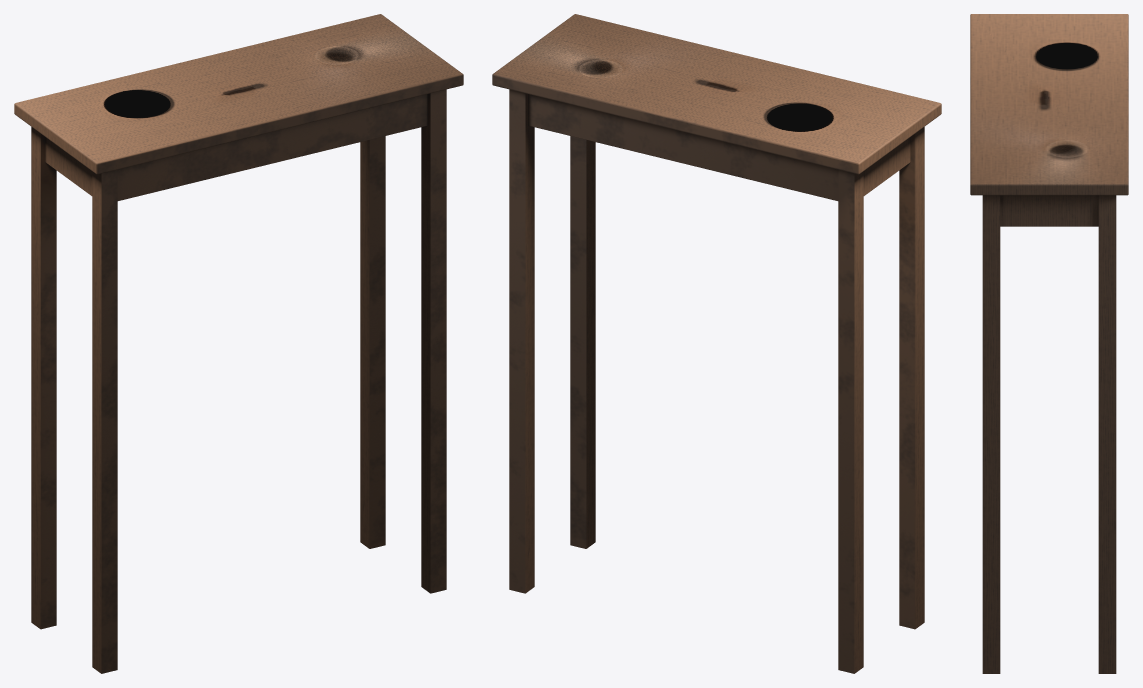
The model's file is 405_hook.glb.
The picture shows the model from 3 angles, left to right: view 1: azimuth 30°, elevation 25°; view 2: azimuth 150°, elevation 25°; view 3: azimuth 270°, elevation 25°; orthographic projection. The views are drawn at different scales.
Parts seen in each view (by area): view 1: Table; view 2: Table; view 3: Table.
Boxes of the visible parts, box(x1,y1,x2,y2) form: Table: box(14, 14, 463, 673); Table: box(492, 14, 941, 673); Table: box(970, 14, 1128, 673).
Size of what is drawn, in the model's own units: 2.3 by 3.1 by 0.9.
Materials: 1 (1 with a texture image).
